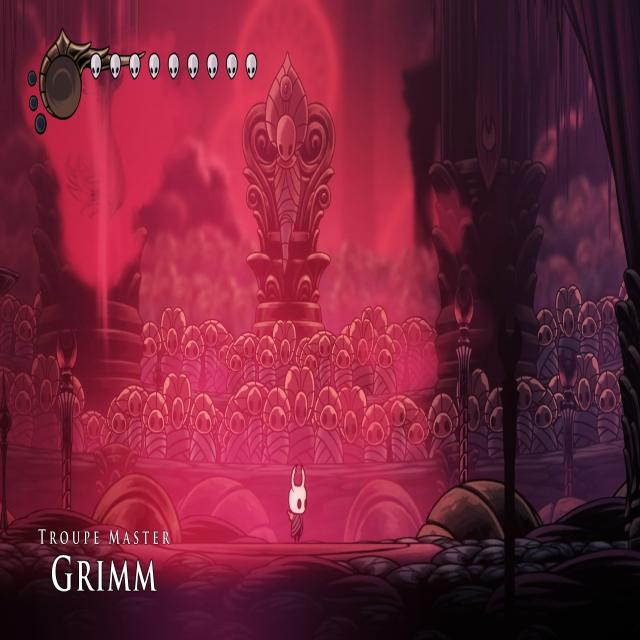Player: (284, 460, 309, 544)
